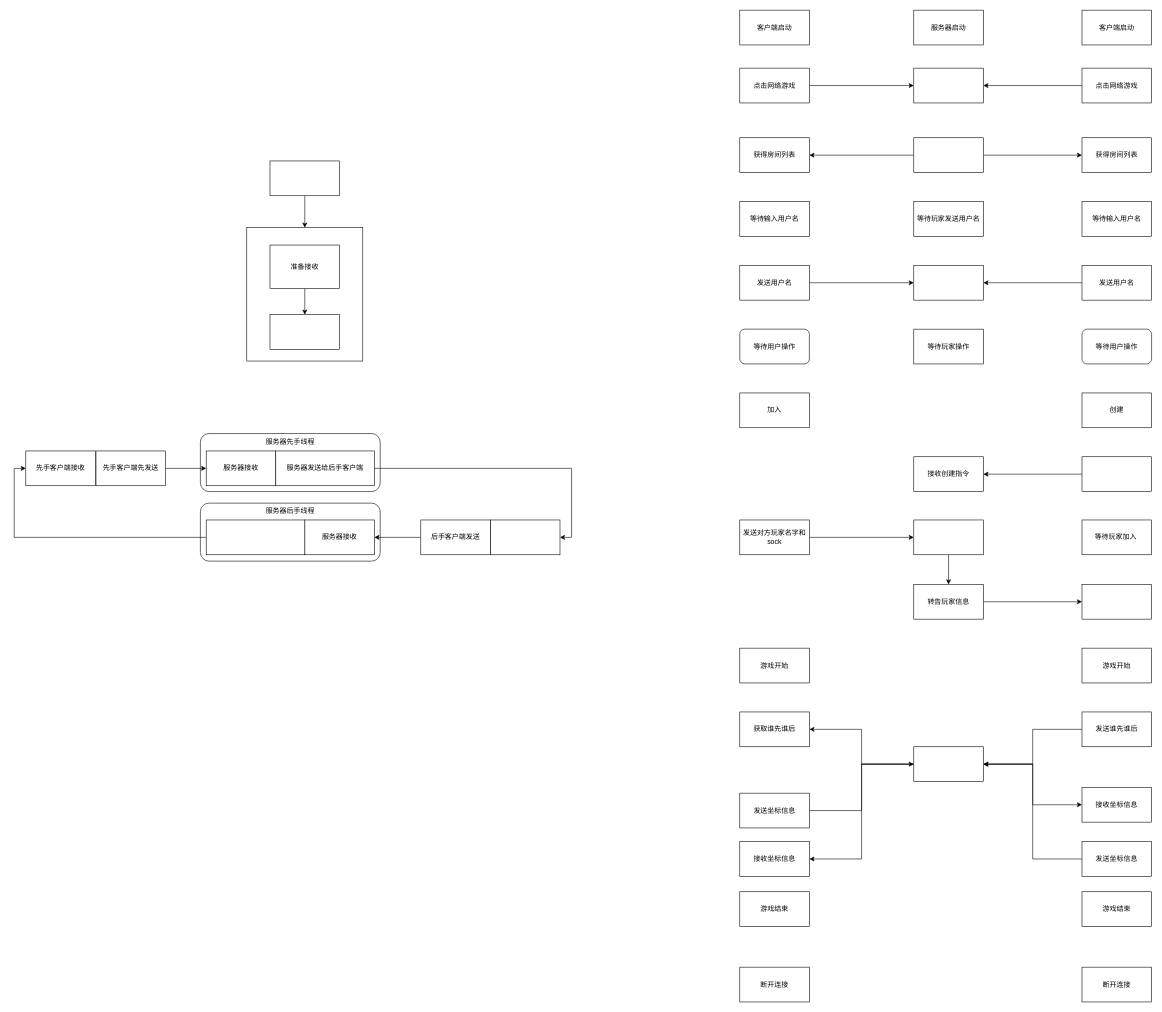
This 1162x1012 diagram has some shape labels left out. The shapes that lost their labels are listed below. From the top down, each one's centre as x and y in pixels, then its label:
[948,85]: 有客户端连接
[948,155]: 发送房间列表
[304,178]: 发送 游戏开始
[948,282]: 接收玩家用户名
[304,331]: 发送
[1116,474]: 发送创建指令
[255,537]: 服务器发送给先手客户端
[525,537]: 后手客户端接收
[948,537]: 接收加入方需求，寻找房间
[1116,601]: 接收加入玩家的名字
[948,764]: 转发信息
